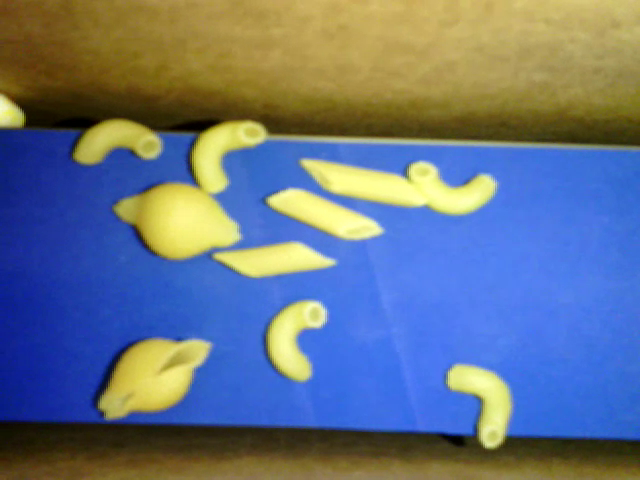elbow: (445, 362, 513, 448), (189, 120, 267, 194), (405, 161, 498, 216), (265, 300, 326, 383), (72, 118, 163, 164)
penne: (298, 156, 430, 207), (265, 187, 385, 240), (211, 242, 337, 278)
shell: (113, 182, 239, 261), (96, 337, 212, 421)
